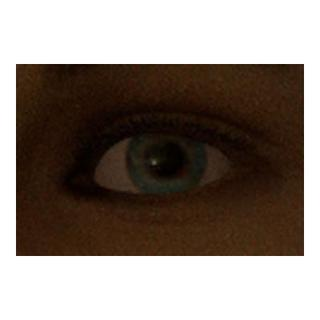pupil: (149, 142, 182, 175)
